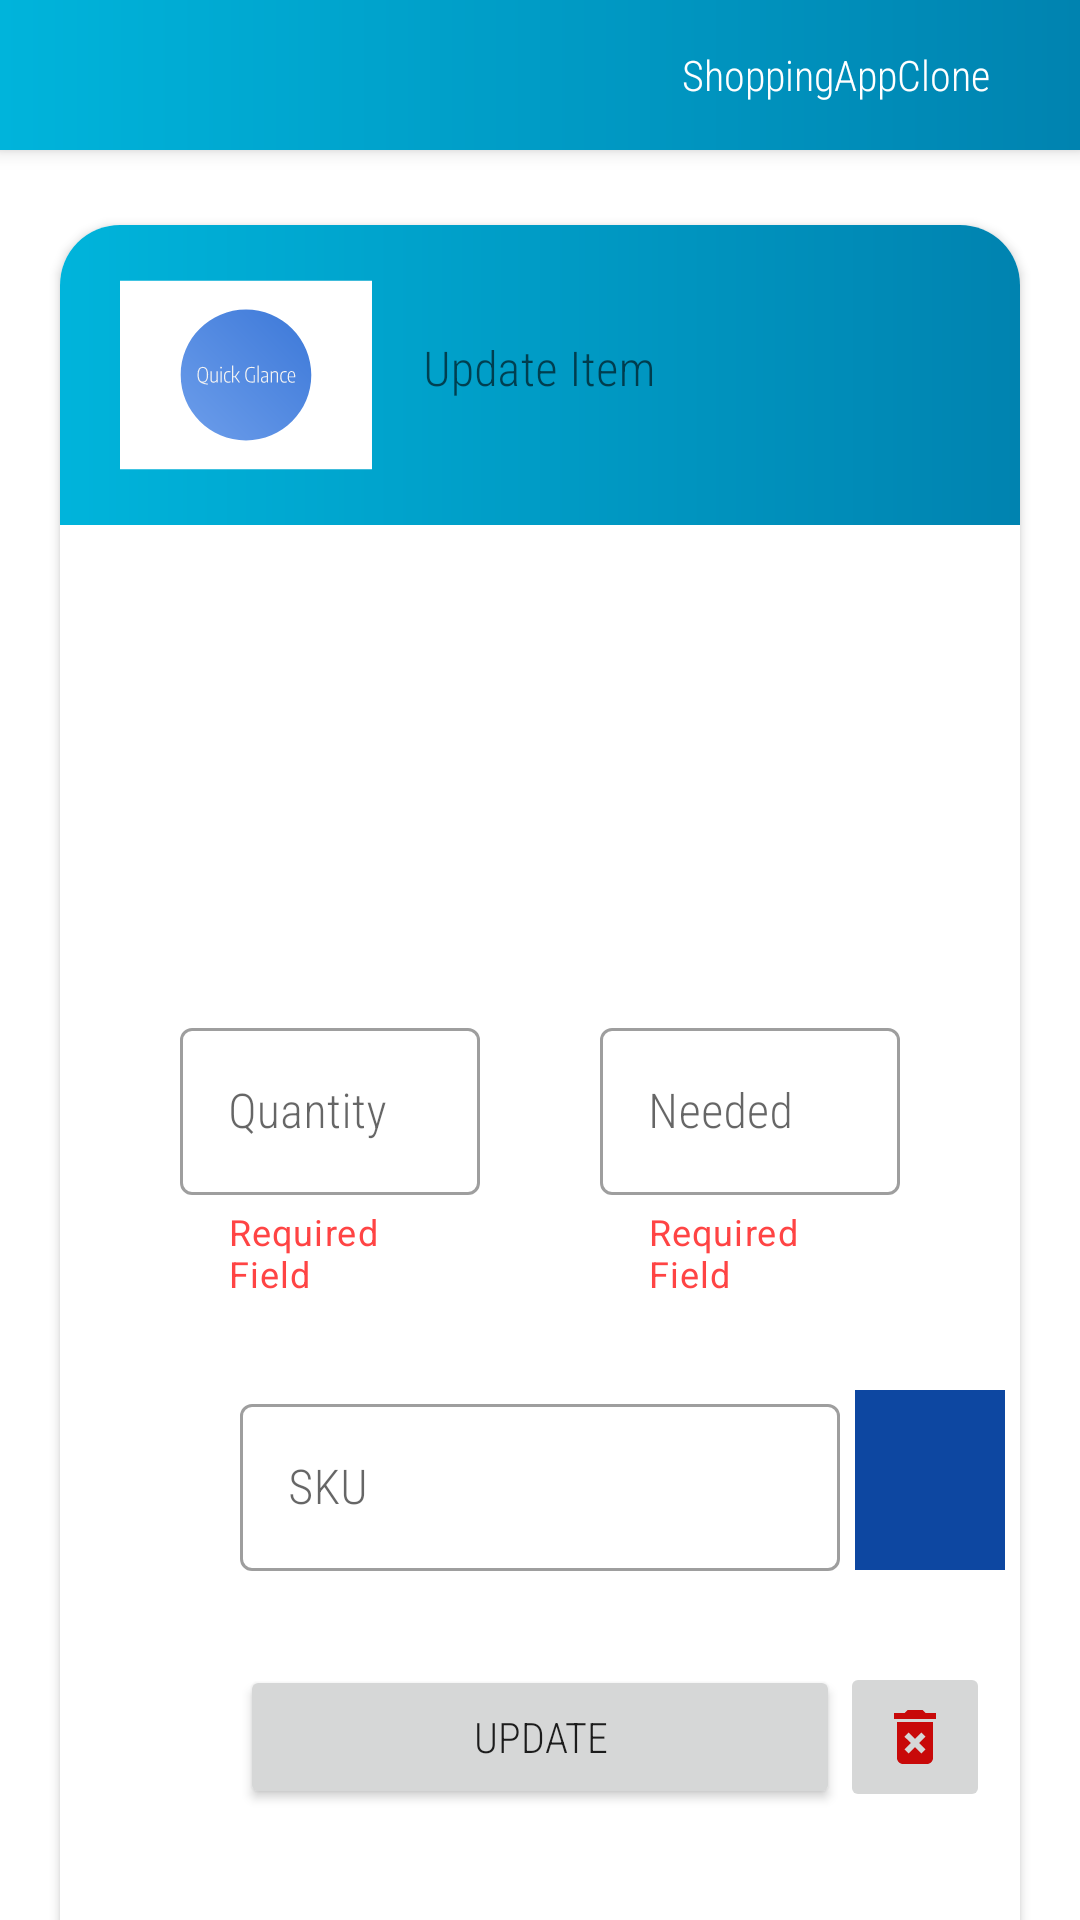

Point at icon controls on the screen. Image size 1080w x 1920h, points as [x,y].
delete forever: [915,1737]
